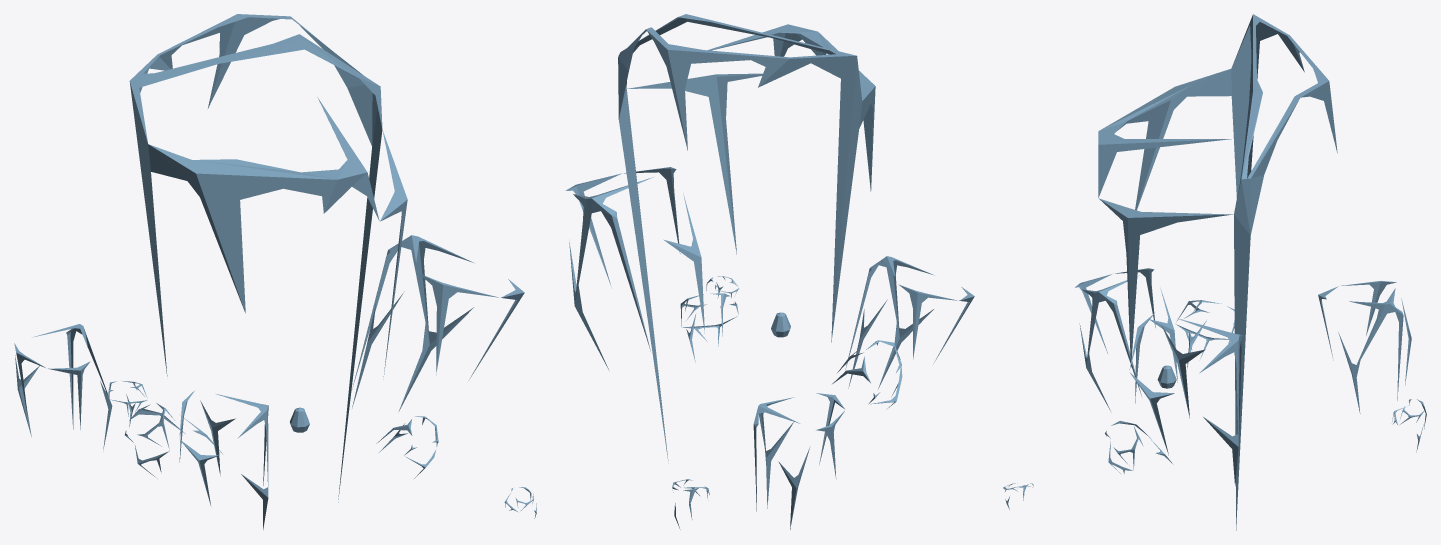
Rendered from Mine_01_Light.FBX.
3 views of the same model, side by side, from view 1: azimuth 30°, elevation 25°; view 2: azimuth 150°, elevation 25°; view 3: azimuth 270°, elevation 25° (orthographic). The views are drawn at different scales.
Visible parts, largest first — view 1: Mine_01_Light; view 2: Mine_01_Light; view 3: Mine_01_Light.
Boxes of the visible parts, x1,y1,x2,y2 form: Mine_01_Light: (14,14,536,529); Mine_01_Light: (565,14,974,529); Mine_01_Light: (1003,14,1426,530).
Bounding box in the file's own units: 11.28 × 13.12 × 11.78.
